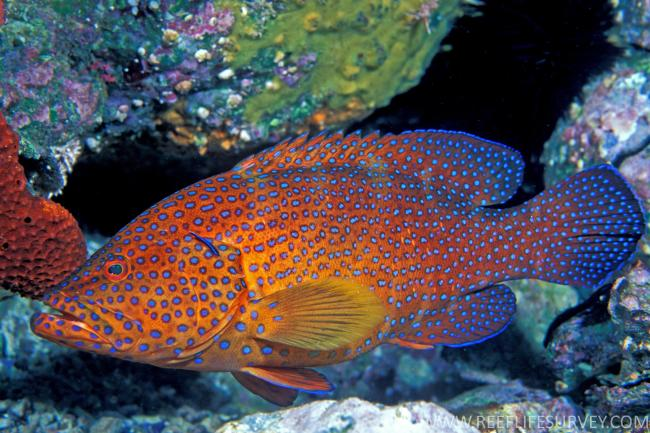fish: (33, 127, 645, 392)
